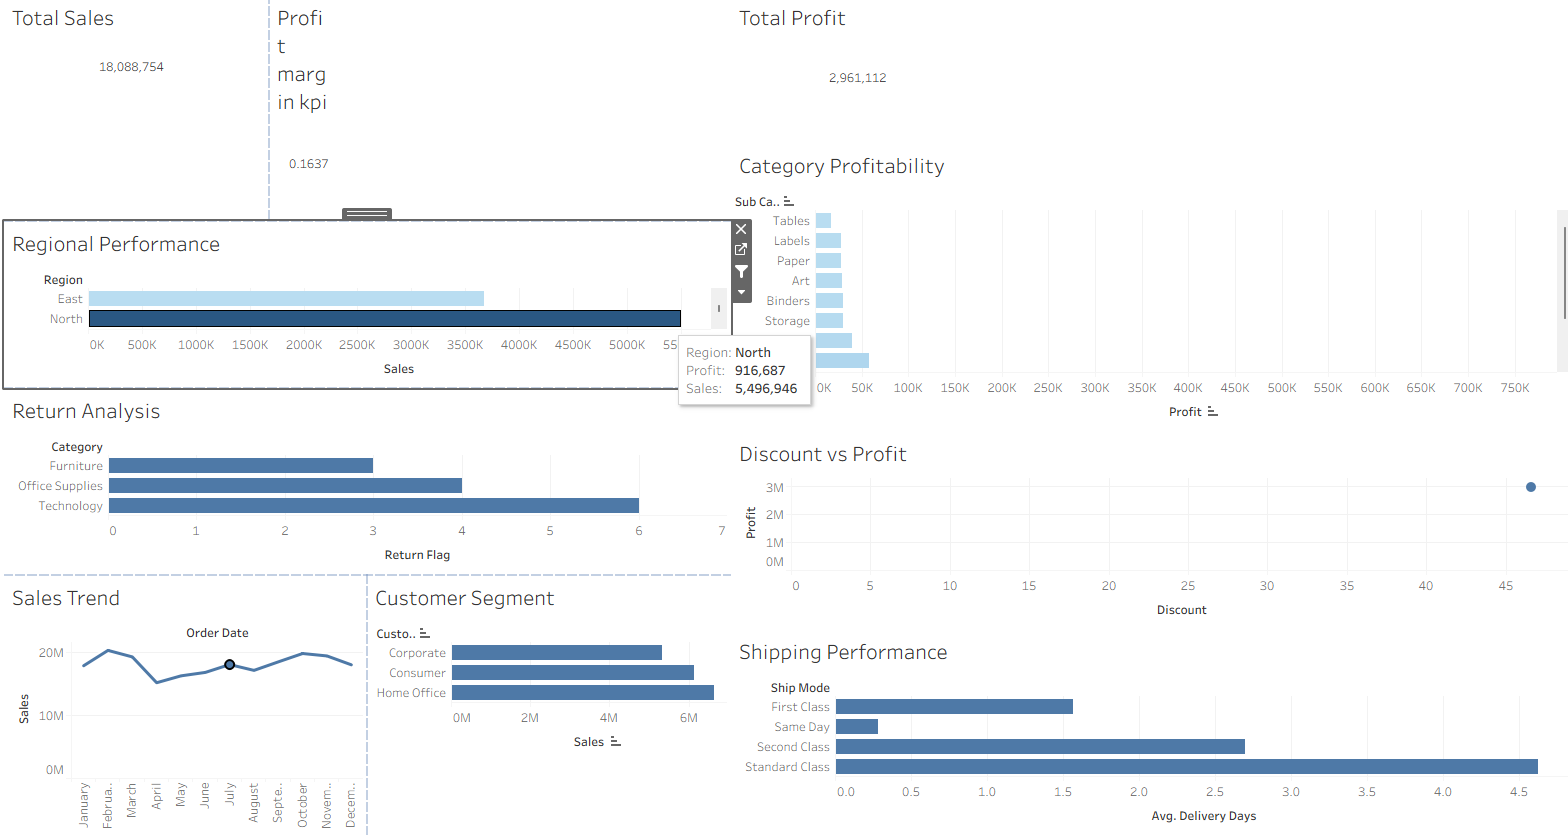

The page's visual inventory and layout, read from the dashboard file:
{"tool":"tableau","page":{"name":"Retail Executive Dashboard","canvas":[1000,1000],"units":"permille","ordinal":0},"visuals":[{"type":"worksheet","title":"Total Sales","mark":"Automatic","box":[4.6,9.3,118.9,274.5]},{"type":"worksheet","title":"Profit margin KPI","mark":"Automatic","box":[123.5,9.3,296.8,274.5]},{"type":"worksheet","title":"Total Profit","mark":"Automatic","box":[420.2,9.3,483.7,172.9]},{"type":"legend","title":"Category Profitability","param":"[federated.053ljfd139hpoq149lci91l637e3].[sum:profit:qk]","box":[904,9.3,91.5,75.9]},{"type":"worksheet","title":"Category Profitability","mark":"Automatic","rows":["sub_category"],"cols":["profit"],"box":[420.2,182.2,483.7,336.4]},{"type":"worksheet","title":"Regional Performance","mark":"Automatic","rows":["region"],"cols":["sales"],"box":[4.6,283.9,415.7,184.8]},{"type":"worksheet","title":"Return Analysis","mark":"Automatic","rows":["category"],"cols":["return_flag"],"box":[4.6,468.6,415.7,218.6]},{"type":"worksheet","title":"Discount vs Profit","mark":"Circle","rows":["profit"],"cols":["discount"],"box":[420.2,518.7,483.7,231.3]},{"type":"worksheet","title":"Sales Trend","mark":"Line","rows":["sales"],"cols":["order_date"],"box":[4.6,687.3,207.8,303.4]},{"type":"worksheet","title":"Customer Segment ","mark":"Automatic","rows":["customer_segment"],"cols":["sales"],"box":[212.4,687.3,207.8,303.4]},{"type":"worksheet","title":"Shipping Performance","mark":"Automatic","rows":["ship_mode"],"cols":["delivery_days"],"box":[420.2,750,483.7,240.7]}]}

Visuals, with their boxes on the dashboard's canvas, which has no fixed pixel size, in thousandths of its width and height (x1, y1, x2, y2). These are canvas units, not pixel positions in the 1568x838 screenshot, which may show the page scaled, cropped or inside an application window:
"Total Sales" worksheet: select_region(5, 9, 124, 284)
"Profit margin KPI" worksheet: select_region(124, 9, 420, 284)
"Total Profit" worksheet: select_region(420, 9, 904, 182)
"Category Profitability" legend: select_region(904, 9, 996, 85)
"Category Profitability" worksheet: select_region(420, 182, 904, 519)
"Regional Performance" worksheet: select_region(5, 284, 420, 469)
"Return Analysis" worksheet: select_region(5, 469, 420, 687)
"Discount vs Profit" worksheet (Circle marks): select_region(420, 519, 904, 750)
"Sales Trend" worksheet (Line marks): select_region(5, 687, 212, 991)
"Customer Segment " worksheet: select_region(212, 687, 420, 991)
"Shipping Performance" worksheet: select_region(420, 750, 904, 991)
